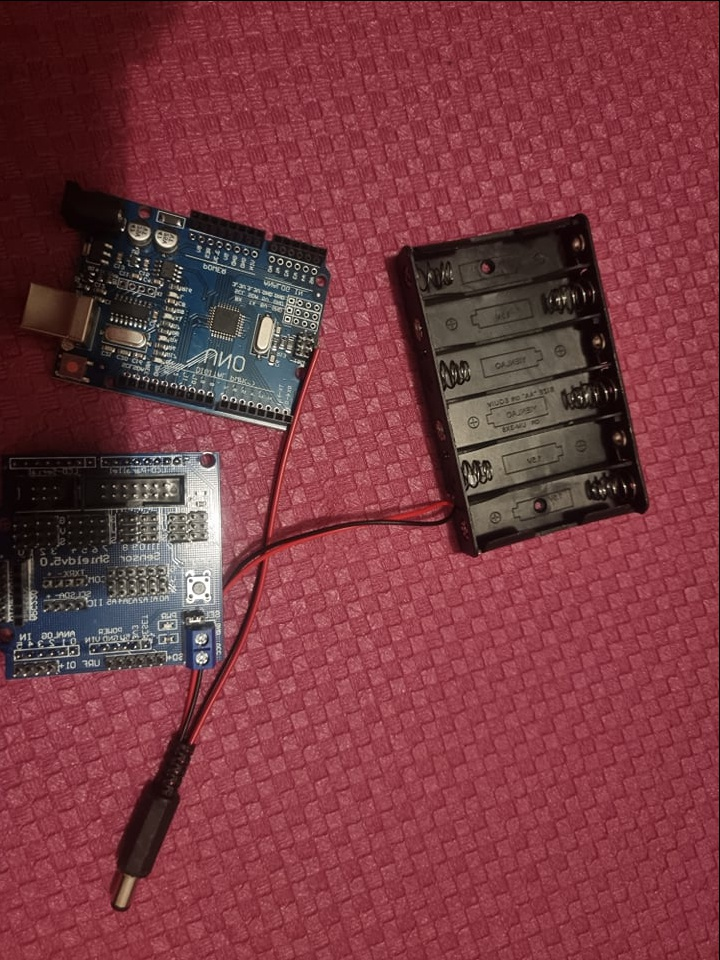5V EXPANSION: (3, 447, 222, 681)
BATTERY BOX: (389, 214, 655, 555)
UNO R3: (26, 184, 328, 431)
